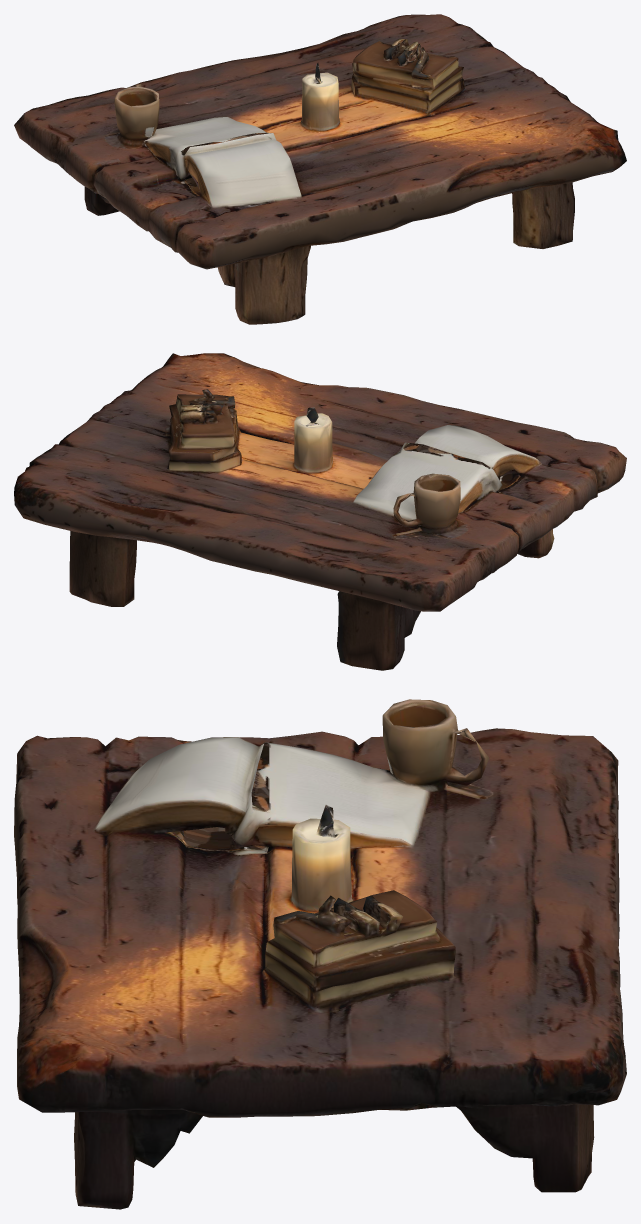
Rendered from table_low_polygon.glb.
3 renders of one model, top to bottom at view 1: azimuth 30°, elevation 25°; view 2: azimuth 150°, elevation 25°; view 3: azimuth 270°, elevation 25°, orthographic. The views are drawn at different scales.
Visible parts, largest first — view 1: Mesh1.0; view 2: Mesh1.0; view 3: Mesh1.0.
Boxes of the visible parts, box(x1,y1,x2,y2) form: Mesh1.0: box(14, 14, 626, 324); Mesh1.0: box(14, 353, 626, 670); Mesh1.0: box(14, 699, 626, 1209).
Size of the model in its own units: 1.91 by 0.6859 by 1.46.
1 material, 1 textured.
